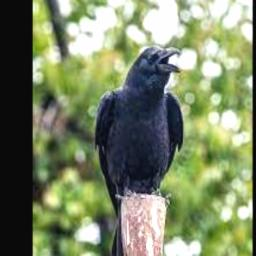Crow: (94, 46, 185, 256)
